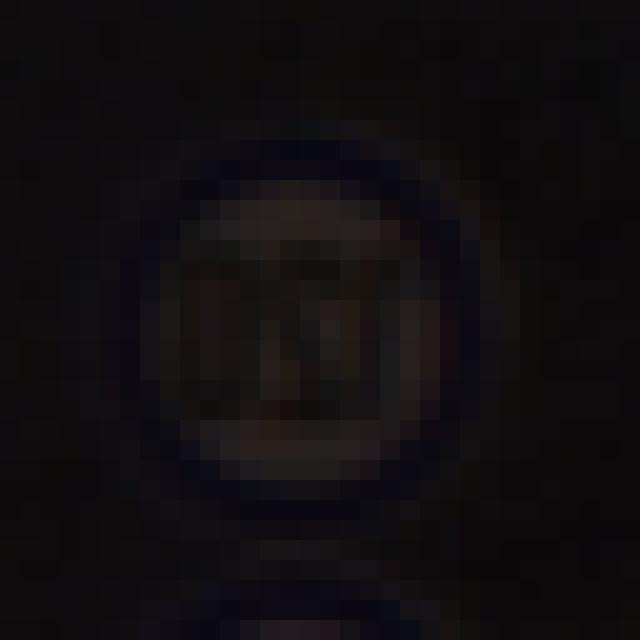SPEED LIMIT 120: (112, 143, 488, 524)
